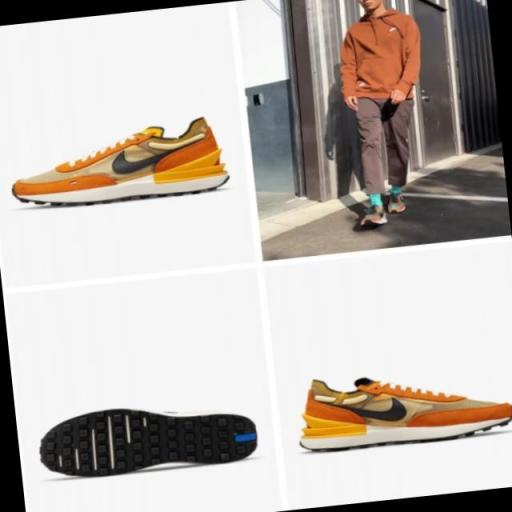Nike: (317, 388, 410, 434)
